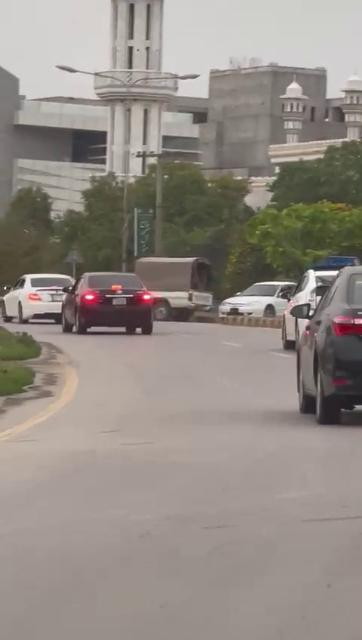plate: (111, 298, 131, 308)
